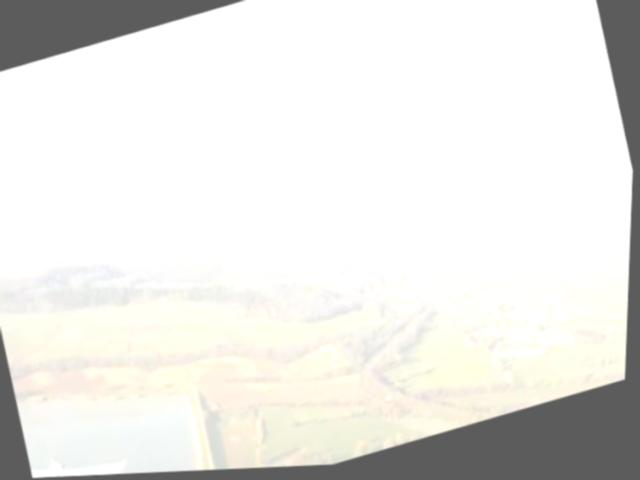iha: (29, 421, 143, 478)
